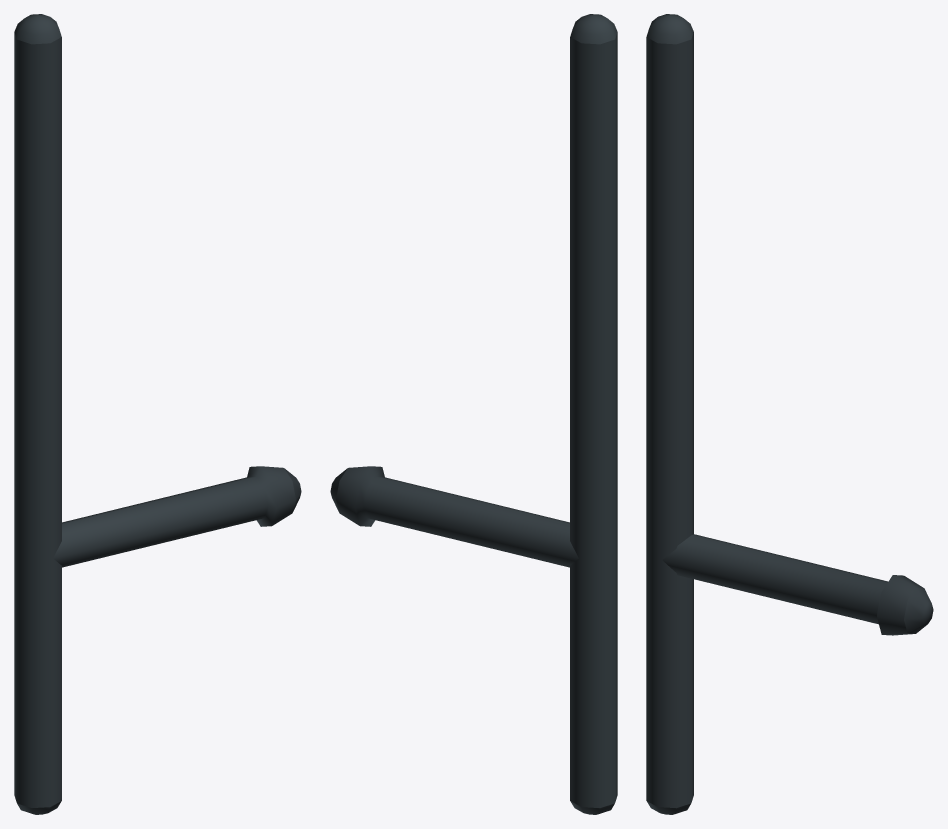
The model's file is Arm_Police.fbx.
3 renders of one model, left to right at view 1: azimuth 30°, elevation 25°; view 2: azimuth 150°, elevation 25°; view 3: azimuth 330°, elevation 25°, orthographic.
Visible parts, largest first — view 1: Arm_Police; view 2: Arm_Police; view 3: Arm_Police.
Part boxes in pixels (bbox=[...]): Arm_Police: bbox=[14, 14, 301, 814]; Arm_Police: bbox=[330, 14, 617, 814]; Arm_Police: bbox=[646, 14, 933, 814].
Size of the model in its own units: 38.32 by 104 by 7.5.
